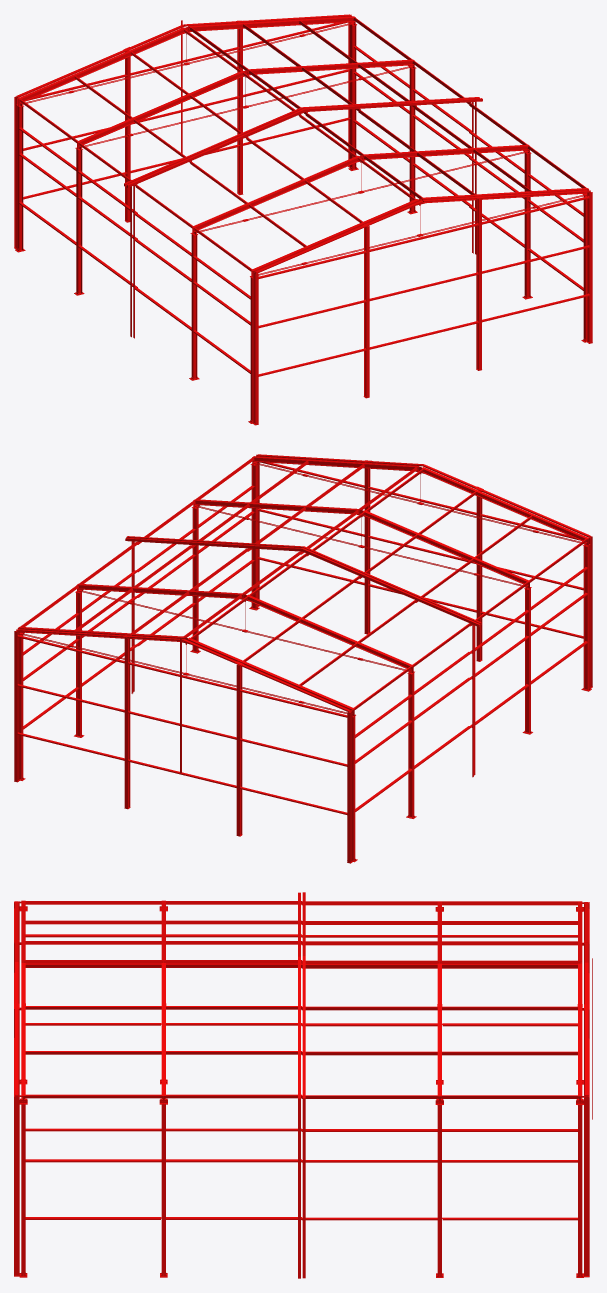
The picture shows the model from 3 angles, top to bottom: view 1: azimuth 30°, elevation 25°; view 2: azimuth 150°, elevation 25°; view 3: azimuth 270°, elevation 25°; orthographic projection. The views are drawn at different scales.
Parts seen in each view (by area): view 1: mainHouse.189, mainHouse.293, mainHouse.017, mainHouse.027, mainHouse.217, mainHouse.093, mainHouse.103, mainHouse.238, mainHouse.314, mainHouse.018, mainHouse.008, mainHouse.284 (+14 smaller); view 2: mainHouse.188, mainHouse.124, mainHouse.048, mainHouse.027, mainHouse.283, mainHouse.293, mainHouse.207, mainHouse.217, mainHouse.103, mainHouse.314, mainHouse.238, mainHouse.018 (+15 smaller); view 3: mainHouse.119, mainHouse.233, mainHouse.198, mainHouse.208, mainHouse.084, mainHouse.094, mainHouse.188, mainHouse.378, mainHouse.207, mainHouse.093, mainHouse.103, mainHouse.217 (+46 smaller).
Part boxes in pixels (x1,y1,x2,y2): mainHouse.189: [127, 98, 482, 187]; mainHouse.293: [192, 155, 359, 231]; mainHouse.017: [18, 27, 185, 103]; mainHouse.027: [77, 70, 244, 146]; mainHouse.217: [362, 144, 529, 160]; mainHouse.093: [188, 16, 355, 31]; mainHouse.103: [247, 59, 414, 74]; mainHouse.238: [476, 198, 481, 370]; mainHouse.314: [364, 226, 369, 397]; mainHouse.018: [76, 149, 82, 293]; mainHouse.008: [17, 106, 23, 250]; mainHouse.284: [191, 234, 197, 378]; mainHouse.188: [125, 537, 480, 627]; mainHouse.124: [124, 637, 130, 808]; mainHouse.048: [236, 665, 242, 836]; mainHouse.027: [246, 594, 413, 670]; mainHouse.283: [422, 467, 588, 543]; mainHouse.293: [363, 510, 530, 586]; mainHouse.207: [252, 456, 419, 471]; mainHouse.217: [193, 499, 360, 514]; mainHouse.103: [77, 583, 243, 599]; mainHouse.314: [476, 490, 482, 661]; mainHouse.238: [364, 468, 370, 633]; mainHouse.018: [408, 673, 414, 817]; mainHouse.119: [584, 1095, 589, 1276]; mainHouse.233: [14, 1095, 19, 1276]; mainHouse.198: [21, 1104, 25, 1274]; mainHouse.208: [161, 1104, 165, 1274]; mainHouse.084: [578, 1105, 582, 1274]; mainHouse.094: [437, 1105, 441, 1274]; mainHouse.188: [302, 892, 305, 1101]; mainHouse.378: [302, 1101, 305, 1278]; mainHouse.207: [21, 963, 25, 1100]; mainHouse.093: [578, 963, 582, 1100]; mainHouse.103: [437, 963, 441, 1100]; mainHouse.217: [161, 963, 165, 1100].
Bounding box in the file's own units: 6711 × 3377 × 7953.
